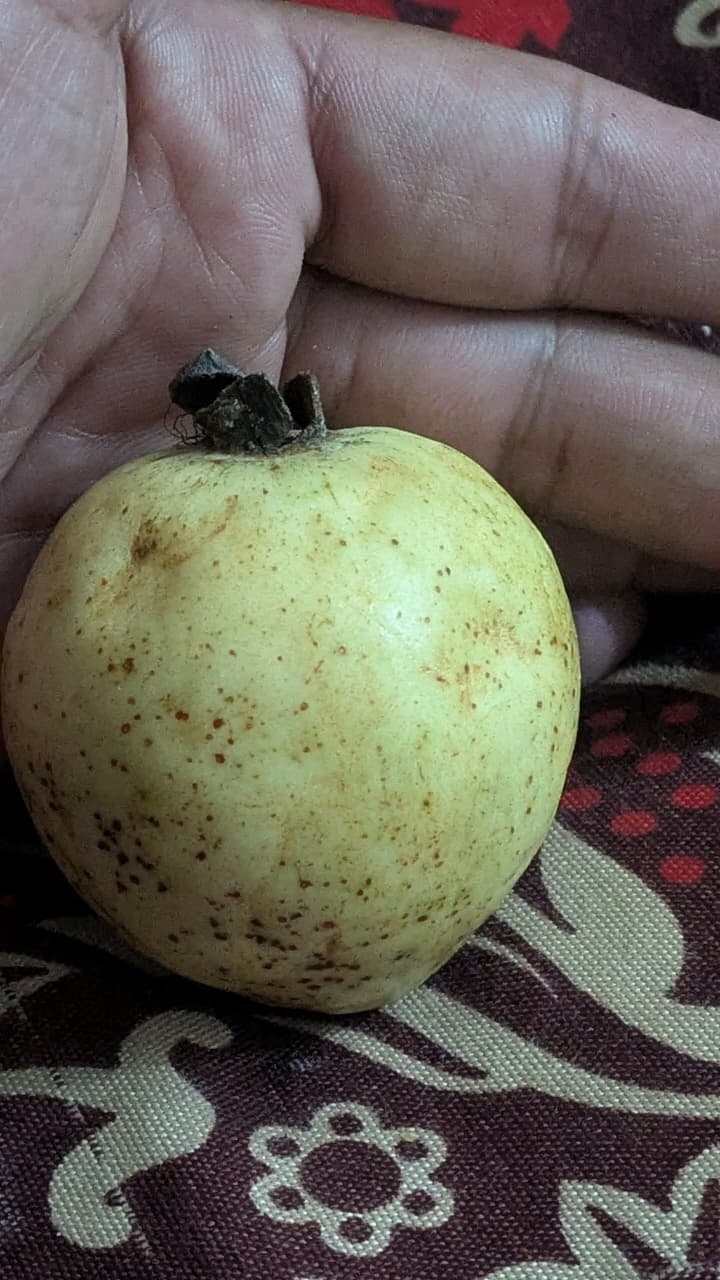guava: (190, 305, 627, 1145)
